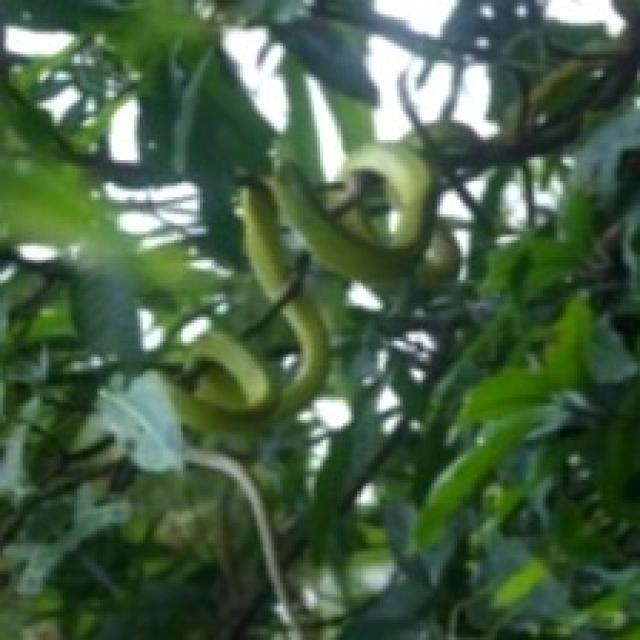red-tailed green ratsnake: (177, 143, 457, 429)
